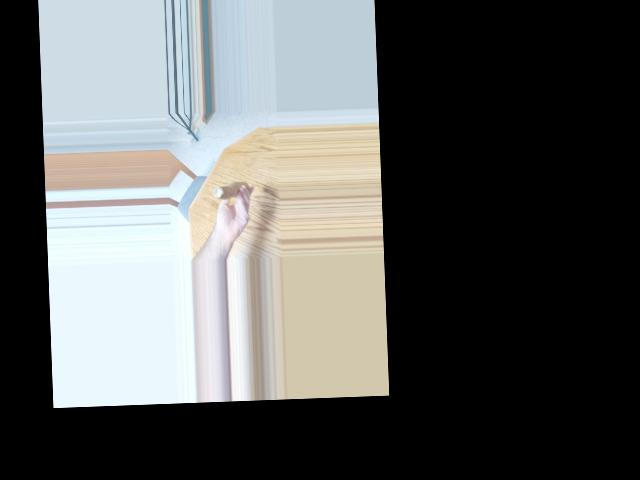sweet_potato: (207, 179, 251, 209)
